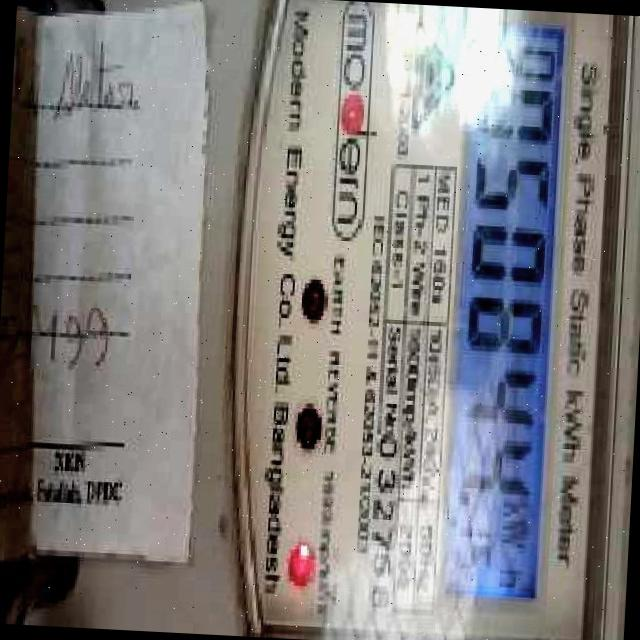LCD: (438, 16, 572, 609)
